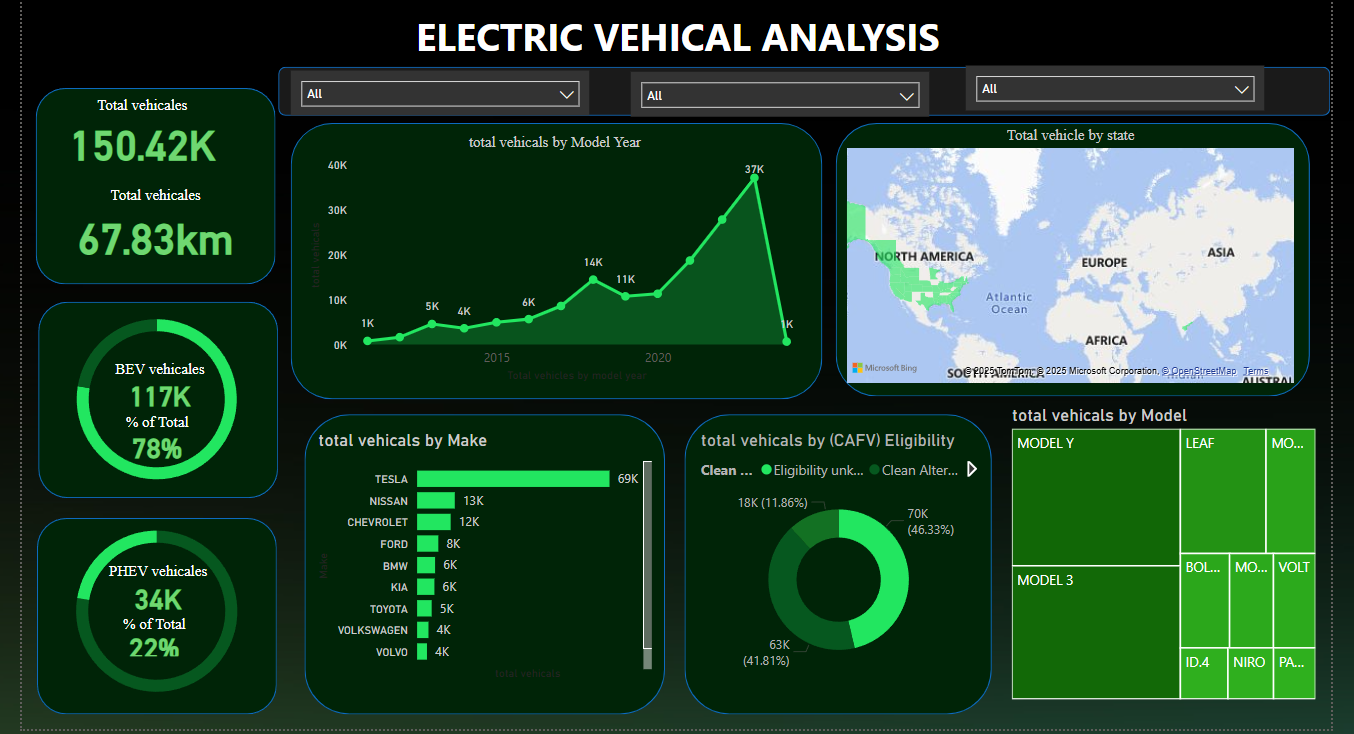

The dashboard page shown, as its layout file describes it:
{"tool":"powerbi","page":{"name":"Page 1","canvas":[1280,720],"ordinal":0},"visuals":[{"type":"shape","box":[13.7,93.3,234.6,192.1],"z":0},{"type":"textbox","box":[13.7,12.3,1266.6,60.4],"z":1000},{"type":"card","title":"Total vehicales","fields":{"Values":["Electric_Vehicle_Population_Data.total vehicals"]},"box":[37,101.5,161.9,72.7],"z":2000},{"type":"card","title":"Total vehicales","fields":{"Values":["Electric_Vehicle_Population_Data.Avg range"]},"box":[48,189.4,166,79.6],"z":3000},{"type":"shape","box":[16.5,301.9,234.6,192.1],"z":4000},{"type":"shape","box":[15.1,513.2,234.6,192.1],"z":5000},{"type":"donutChart","fields":{"Category":["Electric_Vehicle_Population_Data.Electric Vehicle Type"],"Y":["Electric_Vehicle_Population_Data.total vehicals"]},"box":[15.1,295,234.6,205.8],"z":6000},{"type":"card","title":"BEV vehicales","fields":{"Values":["Electric_Vehicle_Population_Data.BEV vehicles"]},"box":[63.1,359.5,142.7,52.1],"z":7000},{"type":"card","title":"% of Total","fields":{"Values":["Electric_Vehicle_Population_Data.% of Bev"]},"box":[74.1,411.7,115.3,49.4],"z":8000},{"type":"donutChart","fields":{"Category":["Electric_Vehicle_Population_Data.Electric Vehicle Type"],"Y":["Electric_Vehicle_Population_Data.total vehicals"]},"box":[15.1,500.9,234.6,207.2],"z":9000},{"type":"card","title":"PHEV vehicales","fields":{"Values":["Electric_Vehicle_Population_Data.PHEV vehicles"]},"box":[67.2,557.1,131.7,52.1],"z":10000},{"type":"card","title":"% of Total","fields":{"Values":["Electric_Vehicle_Population_Data.% of PHEV"]},"box":[74.1,609.3,109.8,45.3],"z":11000},{"type":"shape","box":[251.1,72.7,1029.2,48],"z":12000},{"type":"shape","box":[263.5,127.6,520.1,270.3],"z":13000},{"type":"areaChart","fields":{"Category":["Electric_Vehicle_Population_Data.Model Year"],"Y":["Electric_Vehicle_Population_Data.total vehicals"]},"box":[275.8,138.6,489.9,247],"z":14000},{"type":"shape","box":[795.9,127.6,463.8,267.6],"z":15000},{"type":"filledMap","title":"Total vehicle by state","fields":{"Category":["Electric_Vehicle_Population_Data.State"]},"box":[802.7,130.4,447.3,255.2],"z":16000},{"type":"shape","box":[275.8,411.7,352.7,293.7],"z":17000},{"type":"barChart","fields":{"Category":["Electric_Vehicle_Population_Data.Make"],"Y":["Electric_Vehicle_Population_Data.total vehicals"]},"box":[285.4,426.8,336.2,249.7],"z":18000},{"type":"shape","box":[647.7,411.7,300.5,293.7],"z":19000},{"type":"donutChart","title":"total vehicals by (CAFV) Eligibility","fields":{"Category":["Electric_Vehicle_Population_Data.Clean Alternative Fuel Vehicle (CAFV) Eligibility"],"Y":["Electric_Vehicle_Population_Data.total vehicals"]},"box":[658.7,426.8,279.9,245.6],"z":20000},{"type":"treemap","fields":{"Group":["Electric_Vehicle_Population_Data.Model"],"Values":["Electric_Vehicle_Population_Data.total vehicals"]},"box":[963.6,402.3,306.9,293.5],"z":21000},{"type":"slicer","fields":{"Values":["Electric_Vehicle_Population_Data.City"]},"box":[263.5,75.5,292.3,43.9],"z":22000},{"type":"slicer","fields":{"Values":["Electric_Vehicle_Population_Data.Electric Utility"]},"box":[595.5,76.8,292.3,43.9],"z":23000},{"type":"slicer","fields":{"Values":["Electric_Vehicle_Population_Data.Electric Vehicle Type"]},"box":[923.5,71.4,292.3,43.9],"z":24000}]}

Visuals, with their boxes on the page's 1280x720 design canvas (x1, y1, x2, y2). These are canvas units, not pixel positions in the 1354x734 screenshot, which may show the page scaled, cropped or inside an application window:
shape: {"left": 14, "top": 93, "right": 248, "bottom": 285}
textbox: {"left": 14, "top": 12, "right": 1280, "bottom": 73}
"Total vehicales" card: {"left": 37, "top": 102, "right": 199, "bottom": 174}
"Total vehicales" card: {"left": 48, "top": 189, "right": 214, "bottom": 269}
shape: {"left": 16, "top": 302, "right": 251, "bottom": 494}
shape: {"left": 15, "top": 513, "right": 250, "bottom": 705}
donutChart - Electric_Vehicle_Population_Data.Electric Vehicle Type x Electric_Vehicle_Population_Data.total vehicals: {"left": 15, "top": 295, "right": 250, "bottom": 501}
"BEV vehicales" card: {"left": 63, "top": 360, "right": 206, "bottom": 412}
"% of Total" card: {"left": 74, "top": 412, "right": 189, "bottom": 461}
donutChart - Electric_Vehicle_Population_Data.Electric Vehicle Type x Electric_Vehicle_Population_Data.total vehicals: {"left": 15, "top": 501, "right": 250, "bottom": 708}
"PHEV vehicales" card: {"left": 67, "top": 557, "right": 199, "bottom": 609}
"% of Total" card: {"left": 74, "top": 609, "right": 184, "bottom": 655}
shape: {"left": 251, "top": 73, "right": 1280, "bottom": 121}
shape: {"left": 264, "top": 128, "right": 784, "bottom": 398}
areaChart - Electric_Vehicle_Population_Data.Model Year x Electric_Vehicle_Population_Data.total vehicals: {"left": 276, "top": 139, "right": 766, "bottom": 386}
shape: {"left": 796, "top": 128, "right": 1260, "bottom": 395}
"Total vehicle by state" filledMap: {"left": 803, "top": 130, "right": 1250, "bottom": 386}
shape: {"left": 276, "top": 412, "right": 628, "bottom": 705}
barChart - Electric_Vehicle_Population_Data.Make x Electric_Vehicle_Population_Data.total vehicals: {"left": 285, "top": 427, "right": 622, "bottom": 676}
shape: {"left": 648, "top": 412, "right": 948, "bottom": 705}
"total vehicals by (CAFV) Eligibility" donutChart: {"left": 659, "top": 427, "right": 939, "bottom": 672}
treemap - Electric_Vehicle_Population_Data.Model x Electric_Vehicle_Population_Data.total vehicals: {"left": 964, "top": 402, "right": 1270, "bottom": 696}
slicer - Electric_Vehicle_Population_Data.City: {"left": 264, "top": 76, "right": 556, "bottom": 119}
slicer - Electric_Vehicle_Population_Data.Electric Utility: {"left": 596, "top": 77, "right": 888, "bottom": 121}
slicer - Electric_Vehicle_Population_Data.Electric Vehicle Type: {"left": 924, "top": 71, "right": 1216, "bottom": 115}
